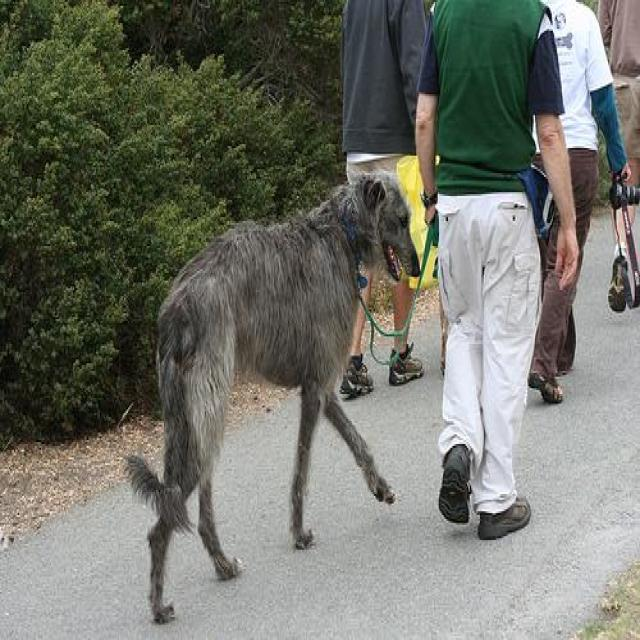irish_wolfhound: (125, 162, 422, 626)
